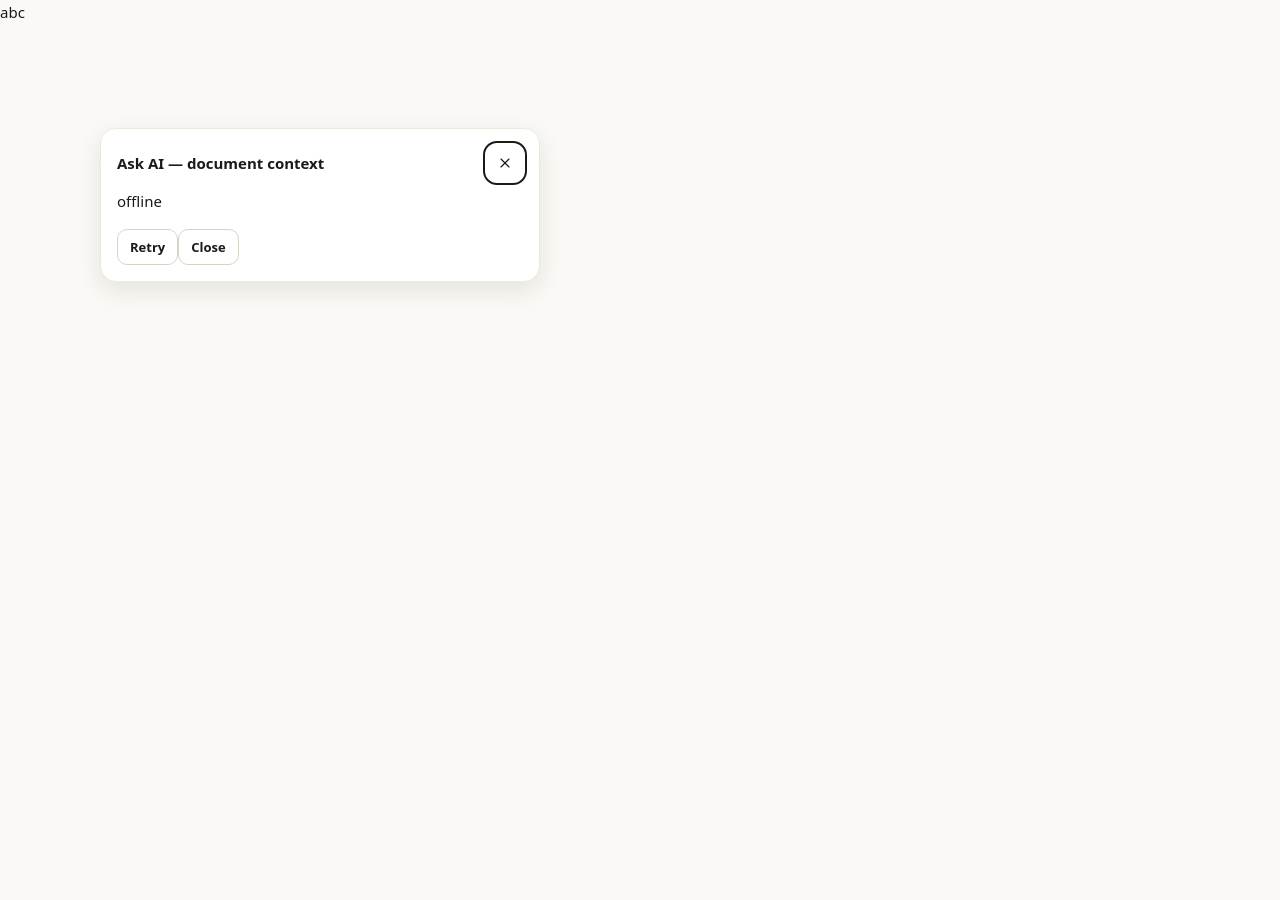
Scenario: retries a lost HTTP response with the same request identity and handles closing during capture
The width and height of the screenshot is (1280, 900).
Expected: the text "offline" is shown, [117, 191, 162, 211]
Click the button "Retry" at (148, 247), box [117, 229, 178, 265]
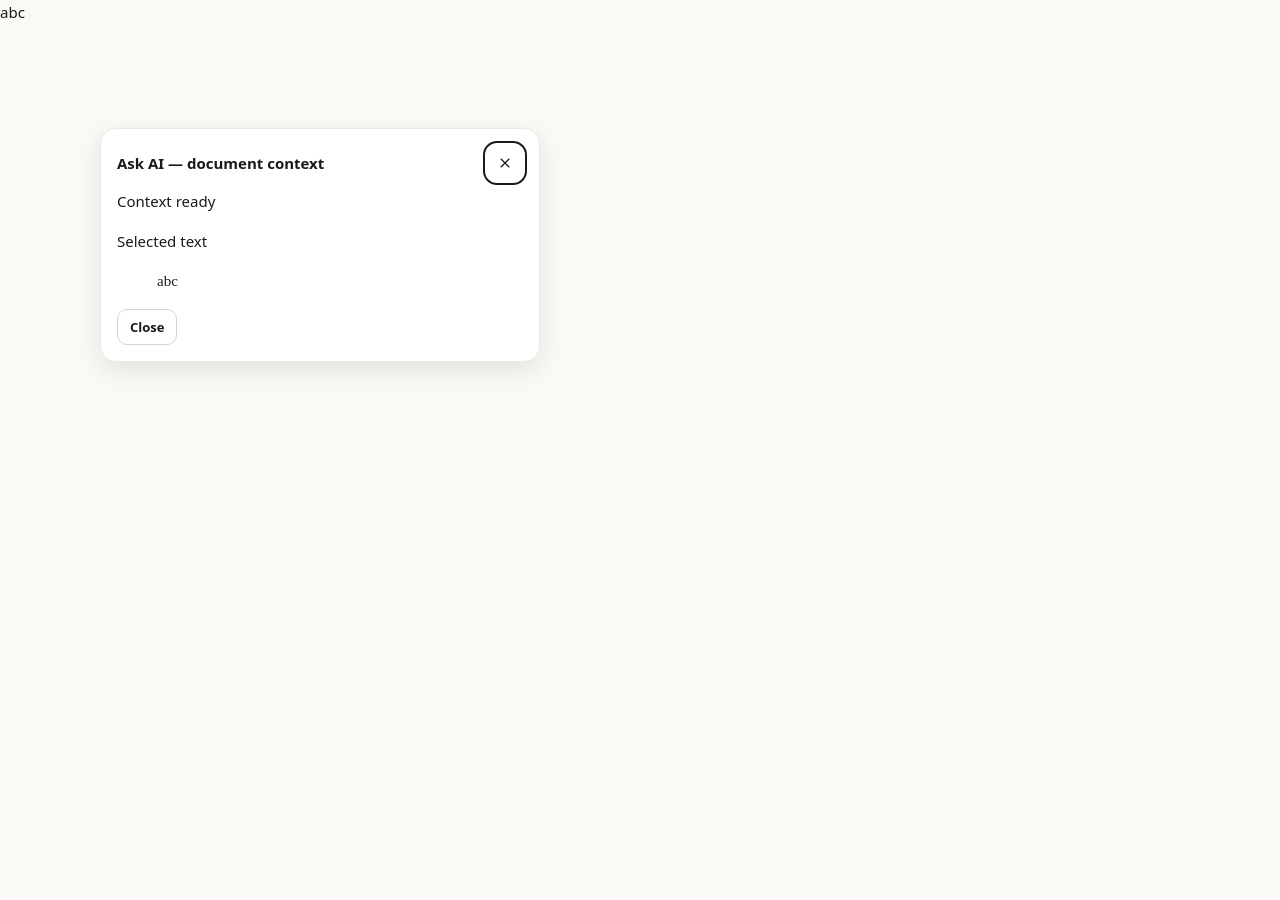
Expected: the text "Context ready" is shown, [117, 191, 215, 211]
